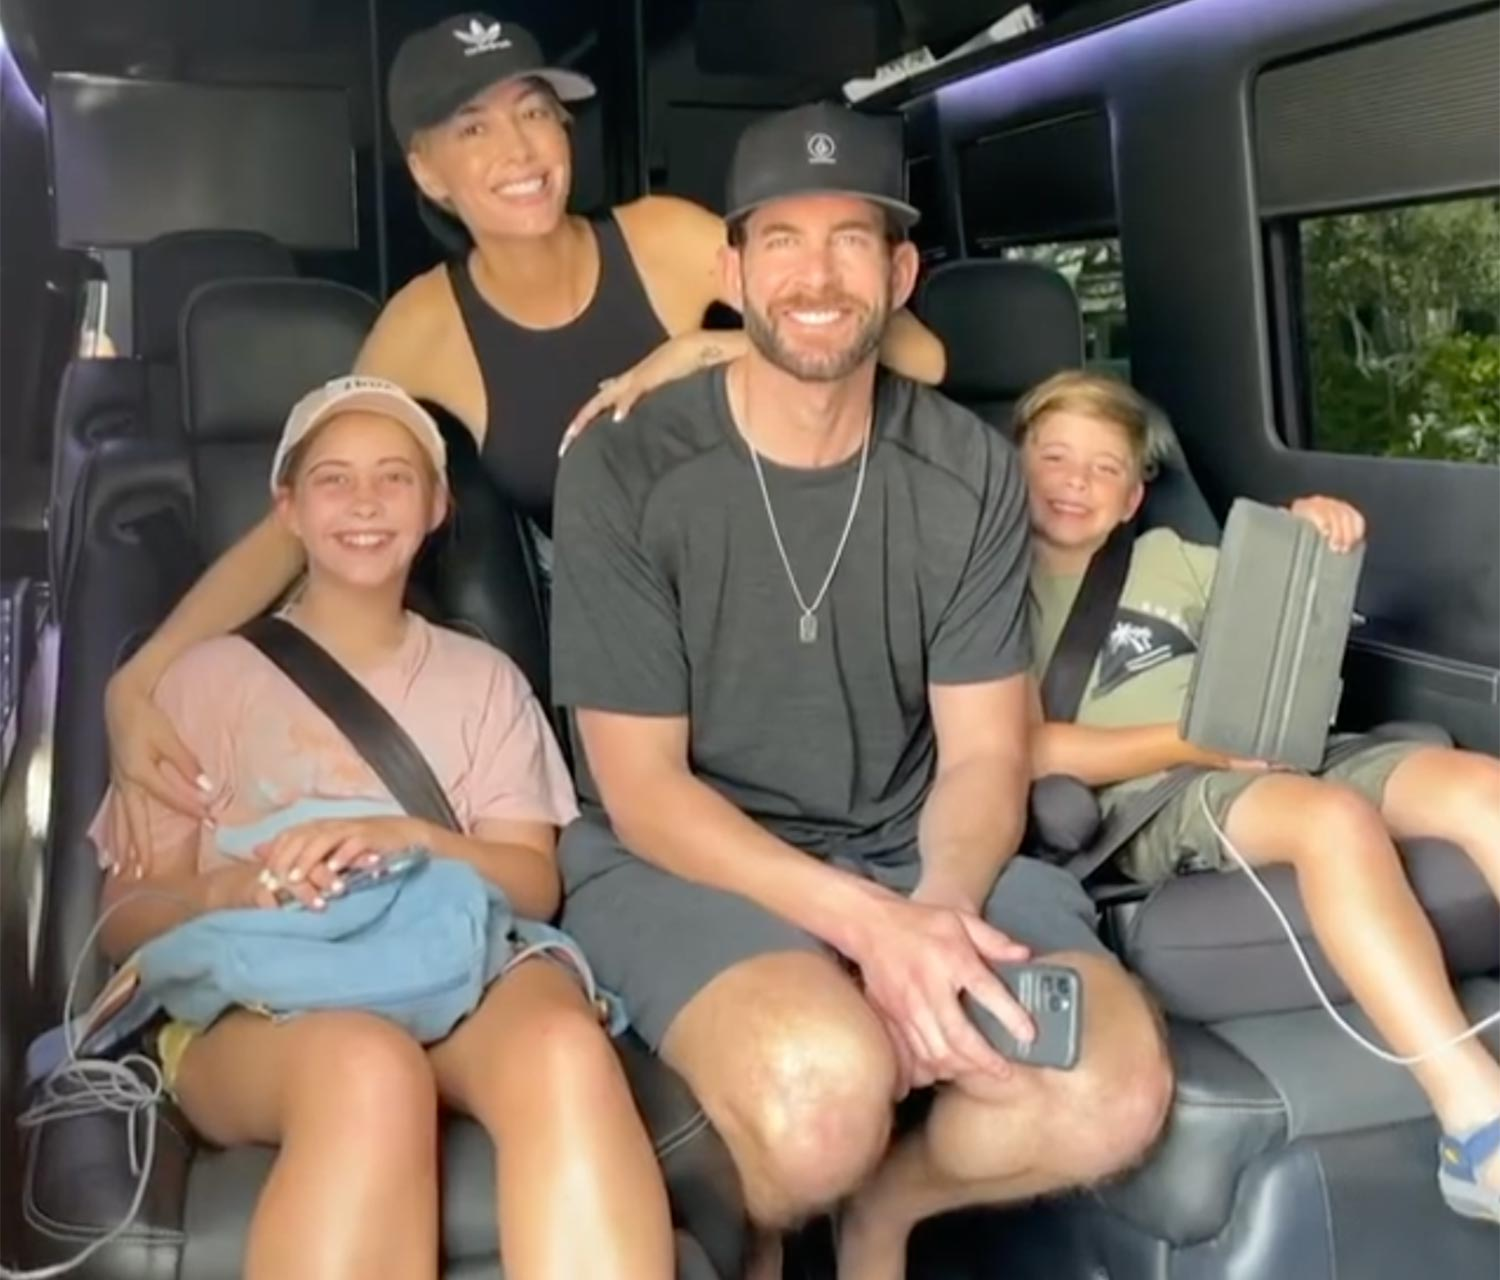without_mask: (754, 200, 879, 359), (444, 96, 572, 229), (301, 443, 423, 567), (1030, 425, 1128, 541)
